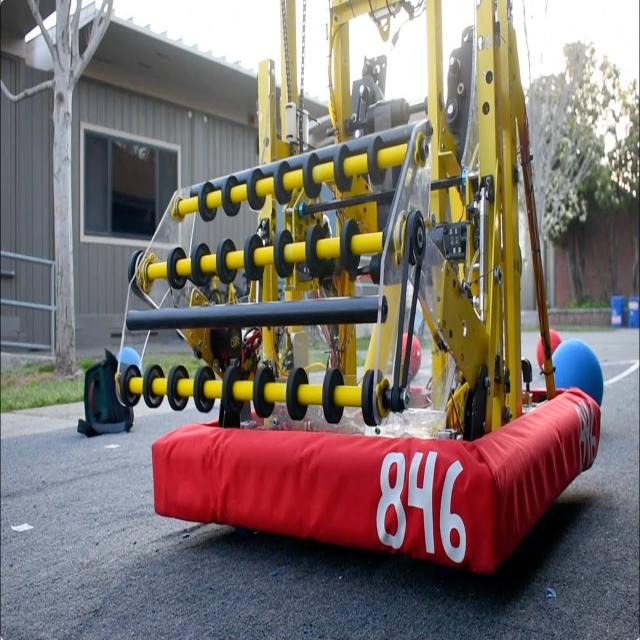robot: (115, 5, 607, 588)
